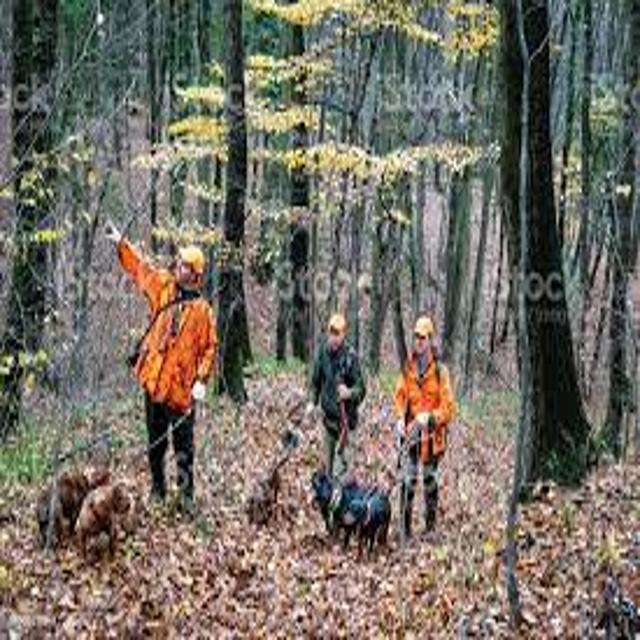dog: (16, 438, 159, 592), (295, 441, 416, 590)
poacher: (85, 192, 253, 535), (366, 282, 478, 575), (273, 296, 387, 522)
